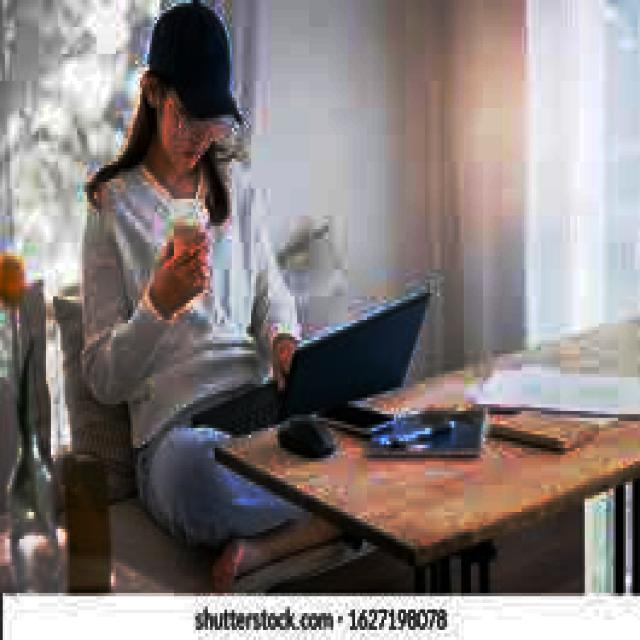TOPI: (142, 0, 246, 125)
